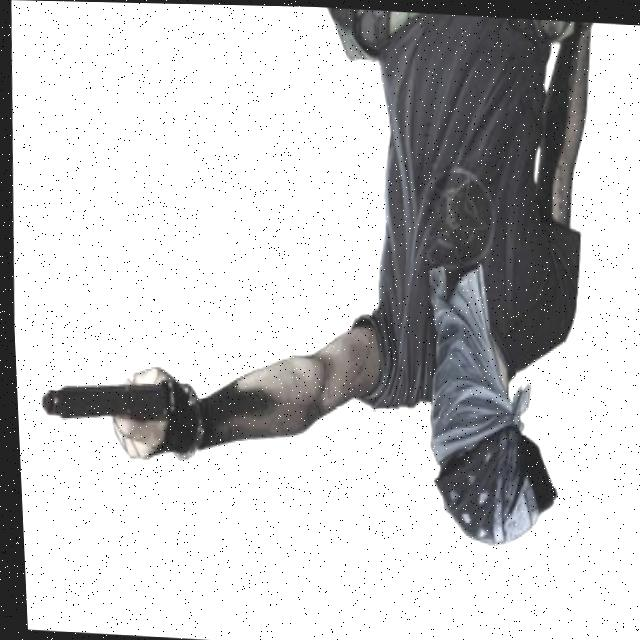pistol: (35, 371, 167, 426)
